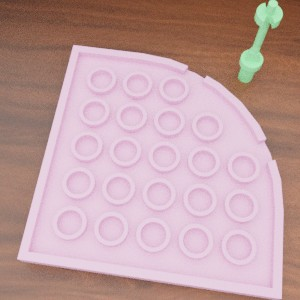lego: (17, 45, 283, 299), (238, 0, 282, 82)
